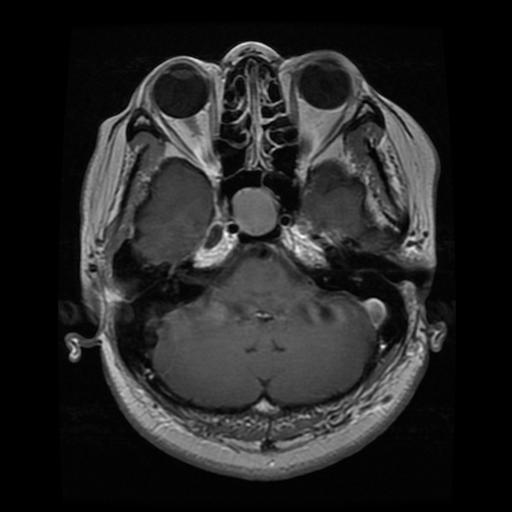Pituirity_tumour: (231, 187, 276, 234)
